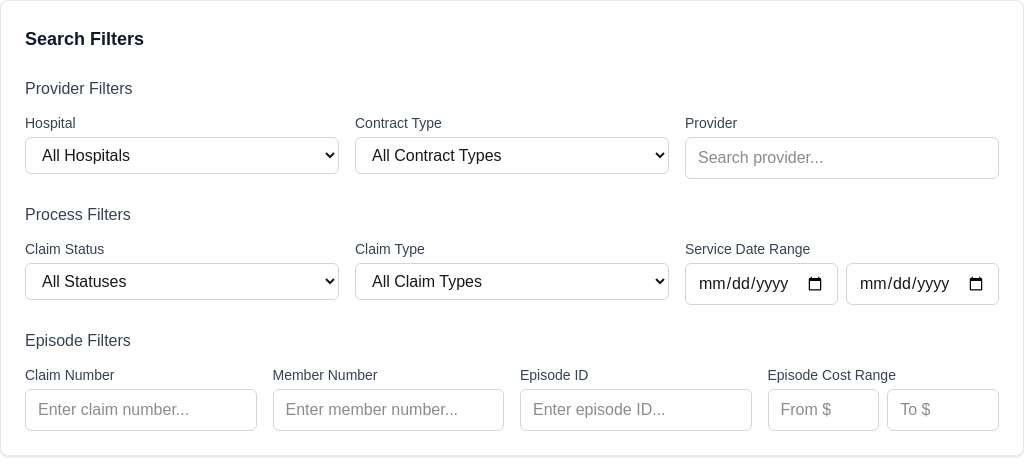
it: MedicalClaimsFilters › Clear Filters › should hide clear button after clearing filters
// Set a filter
Step 1. Select "Calvary" in the dropdown below "Hospital" → [182, 156], box top-left (25, 137), bottom-right (339, 174)
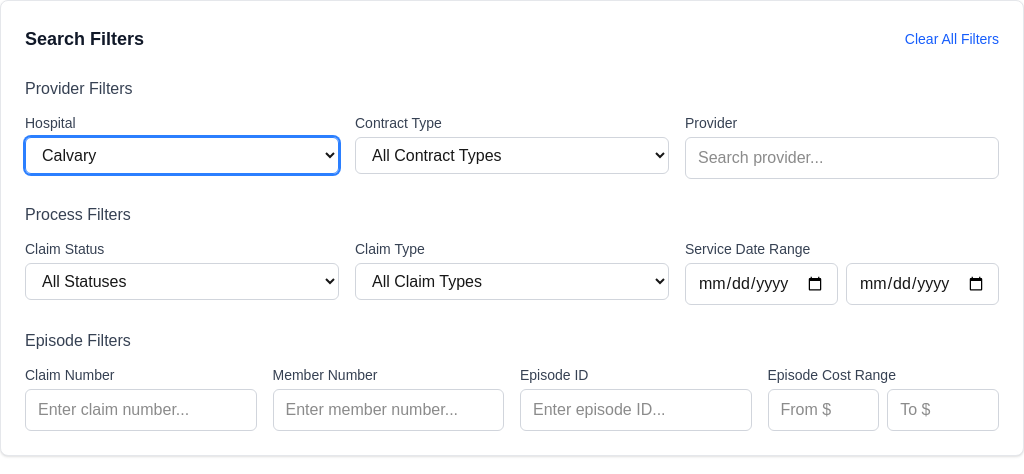
// Clear filters
Step 2. Click the button "Clear All Filters" → [952, 39], box top-left (905, 29), bottom-right (999, 49)
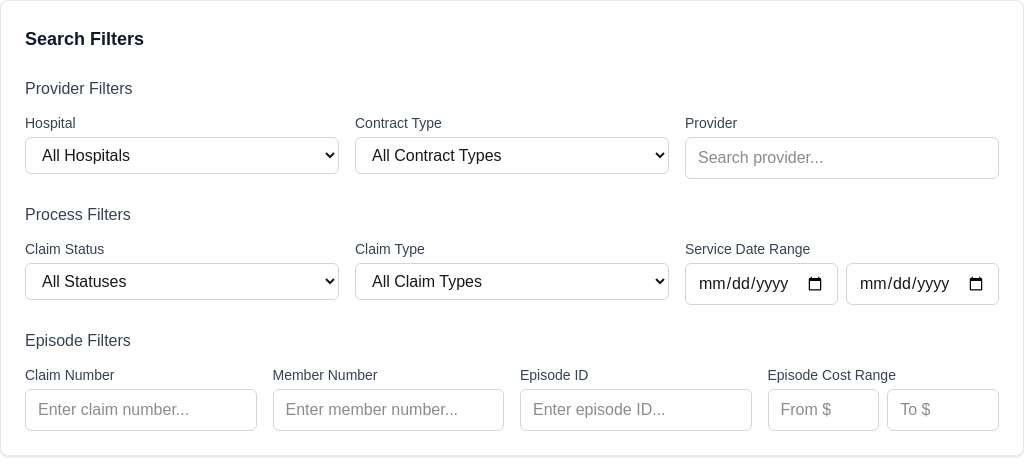
Now the button "Clear All Filters" is gone
